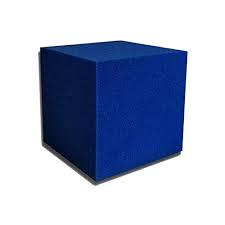cube: (38, 38, 186, 181)
